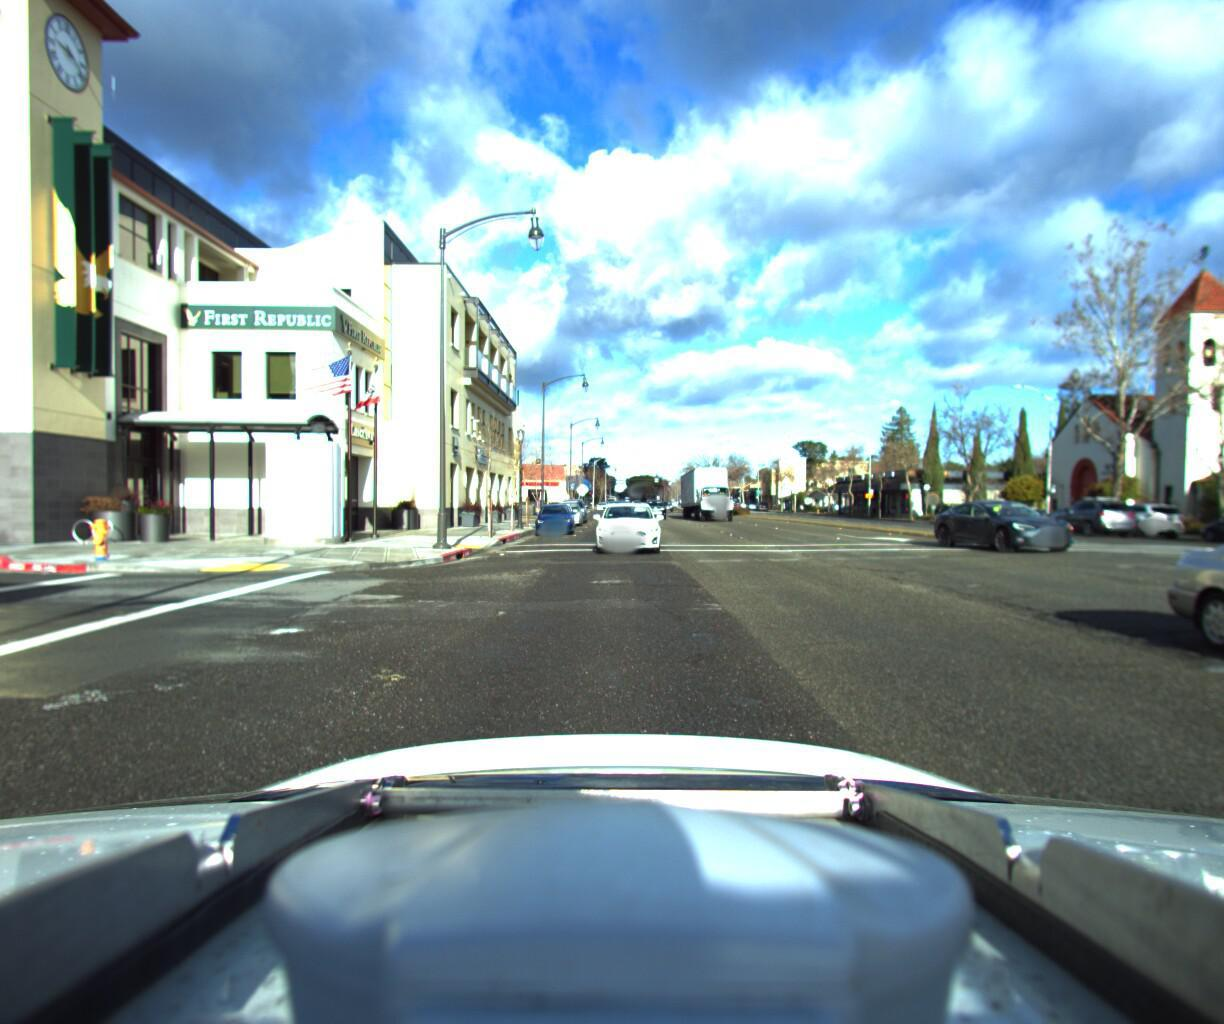car: (938, 494, 1104, 550), (595, 492, 661, 552), (1041, 492, 1127, 532), (1101, 497, 1190, 535), (532, 497, 572, 533), (1190, 501, 1224, 543), (552, 495, 582, 523)
truck: (676, 451, 740, 516)
